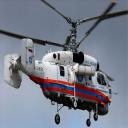helicopter: (4, 11, 119, 127)
